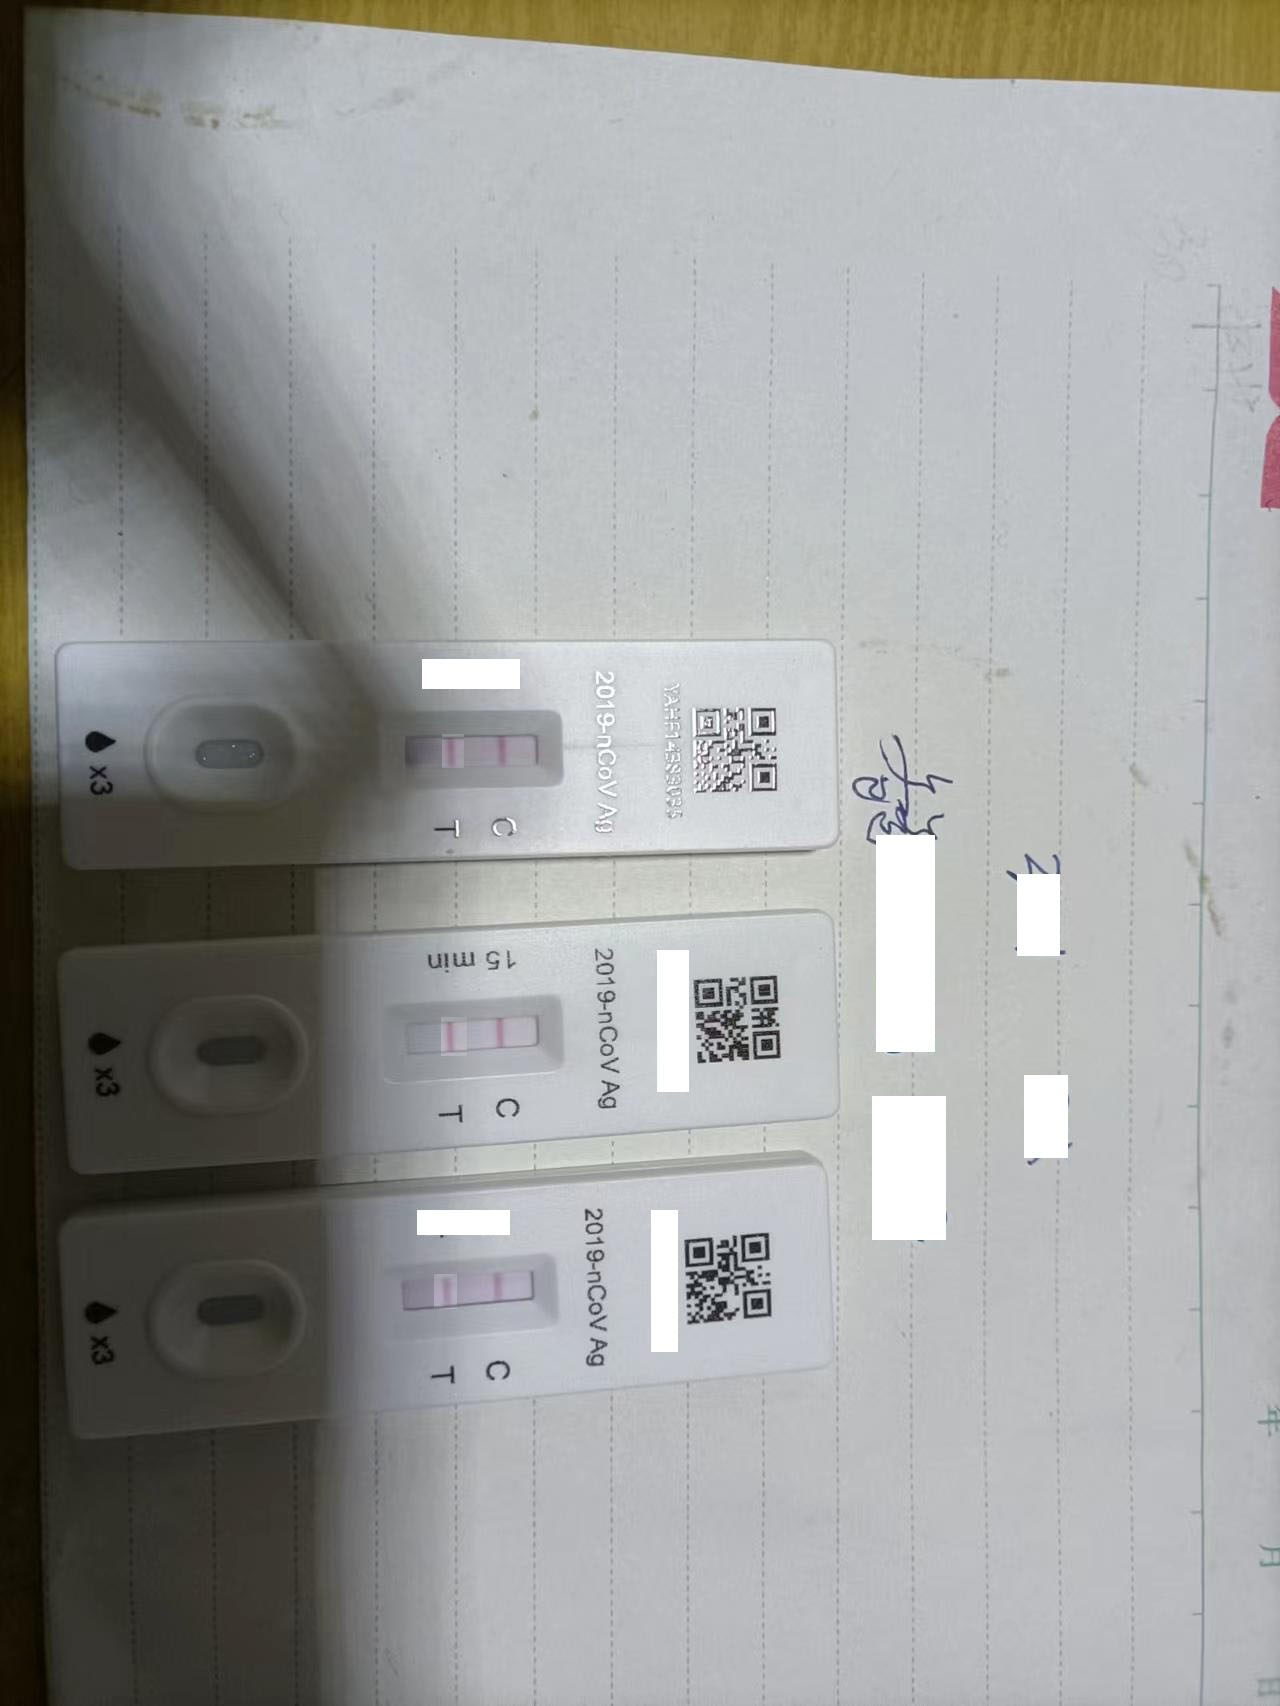positive: (383, 715, 559, 784), (381, 1012, 557, 1073), (385, 1270, 559, 1330)
